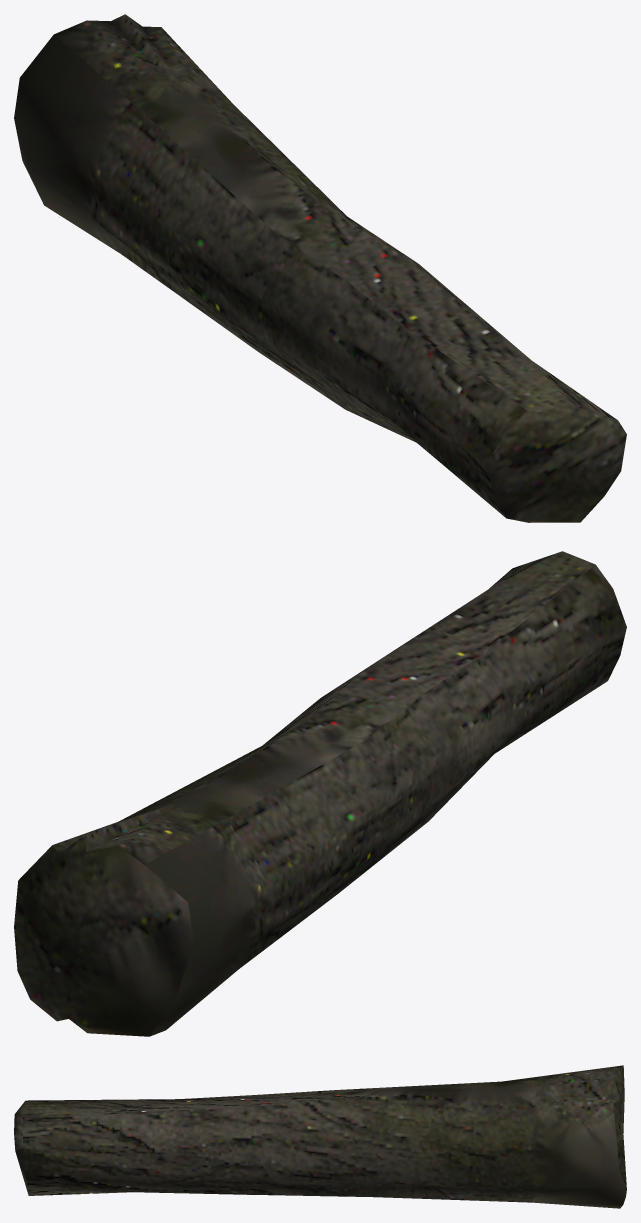
File: treetrunk.glb
3 renders of one model, top to bottom at view 1: azimuth 30°, elevation 25°; view 2: azimuth 150°, elevation 25°; view 3: azimuth 270°, elevation 25°, orthographic. The views are drawn at different scales.
Parts seen in each view (by area): view 1: TreeTrunk; view 2: TreeTrunk; view 3: TreeTrunk.
Boxes of the visible parts, x1,y1,x2,y2 form: TreeTrunk: (14,14,626,522); TreeTrunk: (14,551,626,1036); TreeTrunk: (14,1065,626,1208).
Bounding box in the file's own units: 1.94 × 2.03 × 9.03.
Materials: 1 (1 with a texture image).
